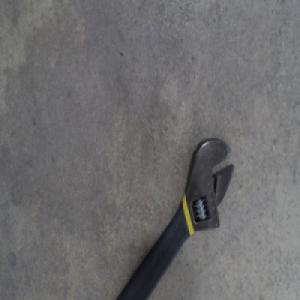AdjustableWrench: (114, 138, 235, 299)
